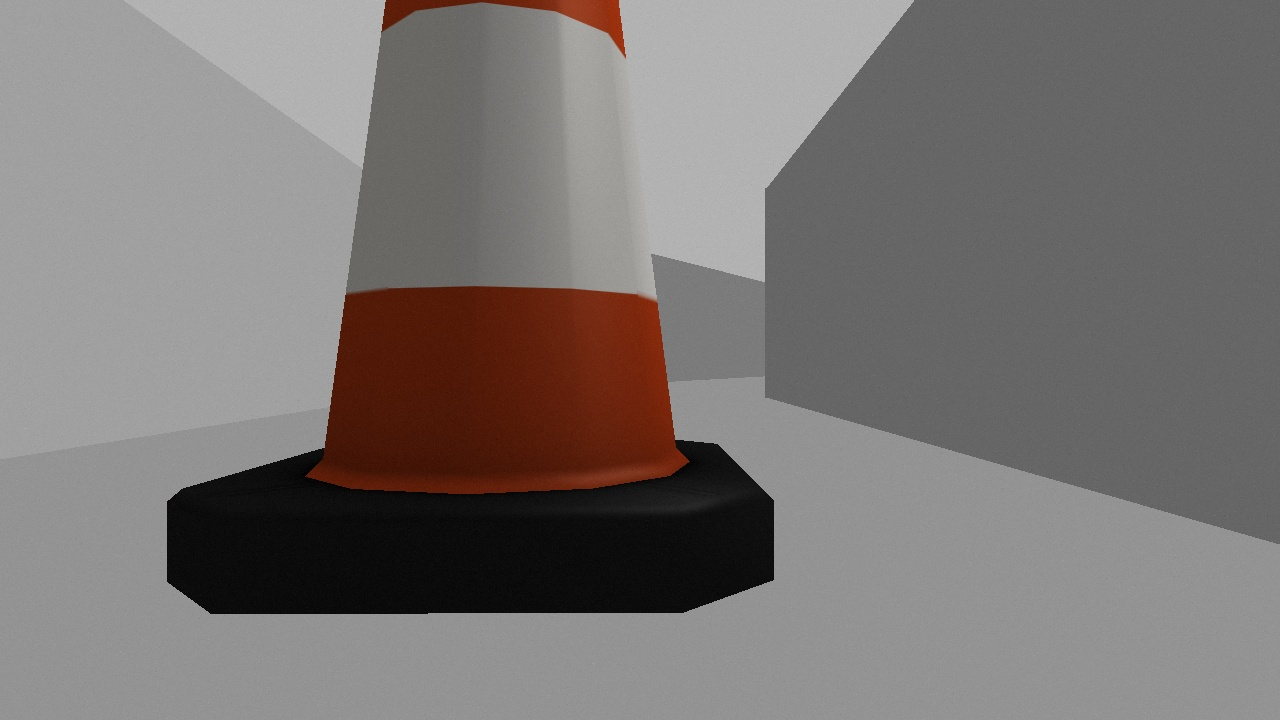barricade: (120, 1, 801, 645)
